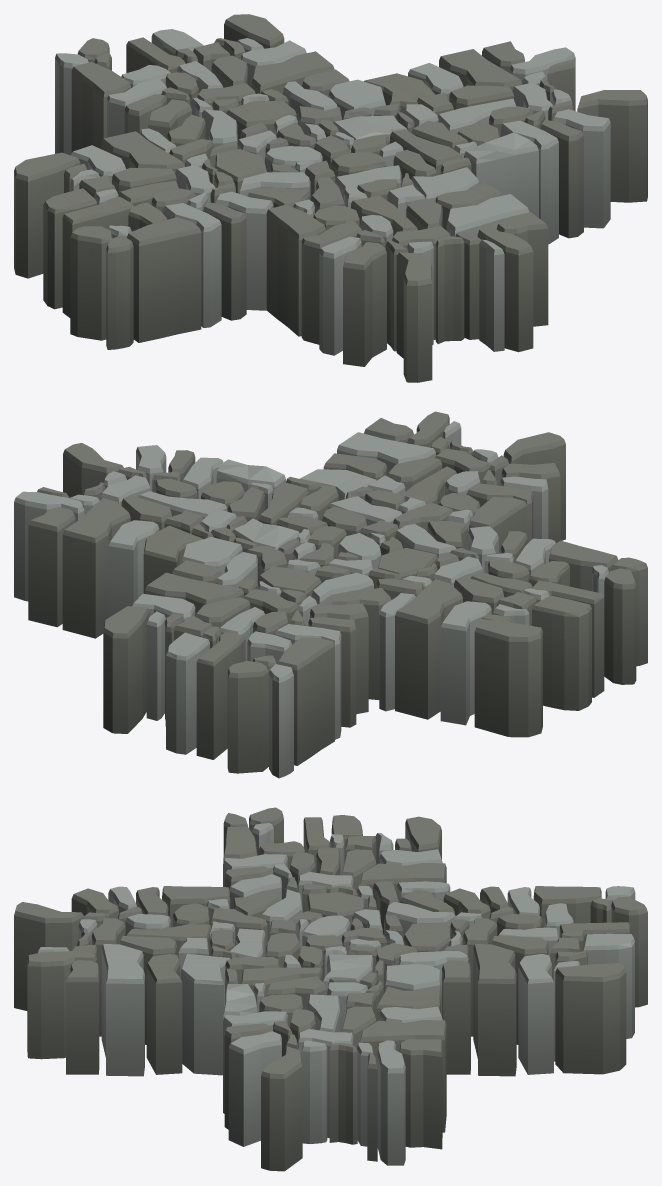
Rendered from ZLP_Road_B_2.FBX.
3 renders of one model, top to bottom at view 1: azimuth 30°, elevation 25°; view 2: azimuth 150°, elevation 25°; view 3: azimuth 270°, elevation 25°, orthographic. The views are drawn at different scales.
Visible parts, largest first — view 1: ZLP_Road_B_2; view 2: ZLP_Road_B_2; view 3: ZLP_Road_B_2.
Part boxes in pixels (left/top/right/bottom): ZLP_Road_B_2: left=14, top=14, right=647, bottom=382; ZLP_Road_B_2: left=14, top=411, right=647, bottom=778; ZLP_Road_B_2: left=14, top=807, right=647, bottom=1171.
Size of the model in its own units: 1034 by 180 by 1034.
